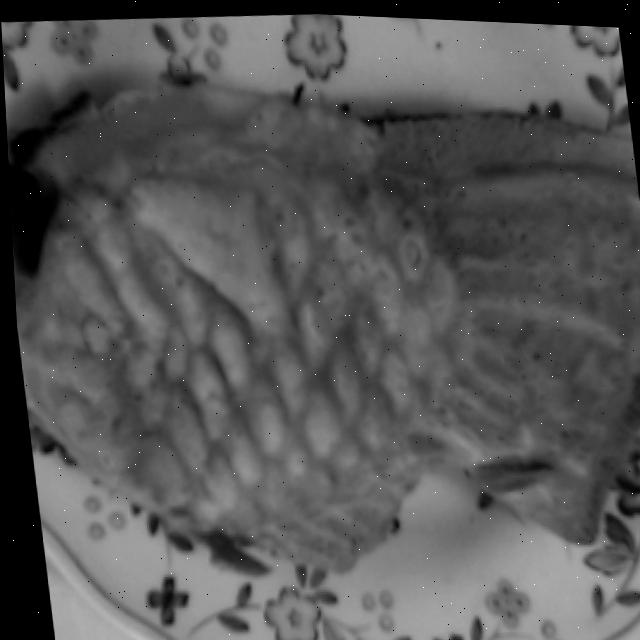熟制海鲜: (2, 45, 640, 612)
